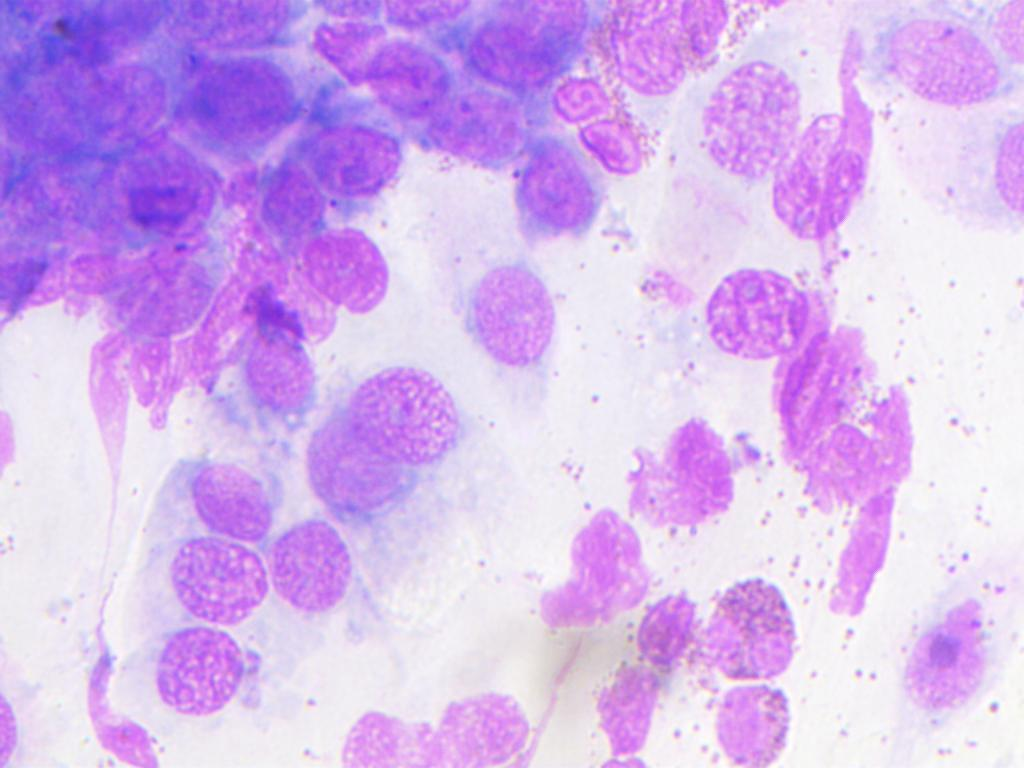artifact: (772, 307, 913, 627), (83, 612, 158, 768)
eosinophil: (552, 13, 674, 180), (611, 404, 747, 537), (546, 496, 653, 640), (697, 565, 818, 681), (622, 579, 713, 675), (704, 683, 800, 767)
epithelial: (337, 675, 543, 768), (454, 256, 574, 405), (770, 89, 888, 240), (172, 47, 318, 152), (306, 402, 416, 541), (871, 13, 1003, 124), (126, 625, 274, 722), (702, 53, 808, 188), (87, 249, 222, 355), (899, 580, 1000, 719), (126, 541, 270, 631), (461, 1, 593, 95), (92, 149, 224, 242), (268, 522, 377, 633), (693, 259, 805, 363), (362, 375, 492, 457), (158, 448, 272, 541), (297, 217, 394, 324), (72, 47, 173, 146), (353, 41, 473, 122), (425, 88, 536, 174), (301, 123, 415, 206), (231, 307, 320, 413), (508, 144, 597, 237), (580, 664, 660, 757)
